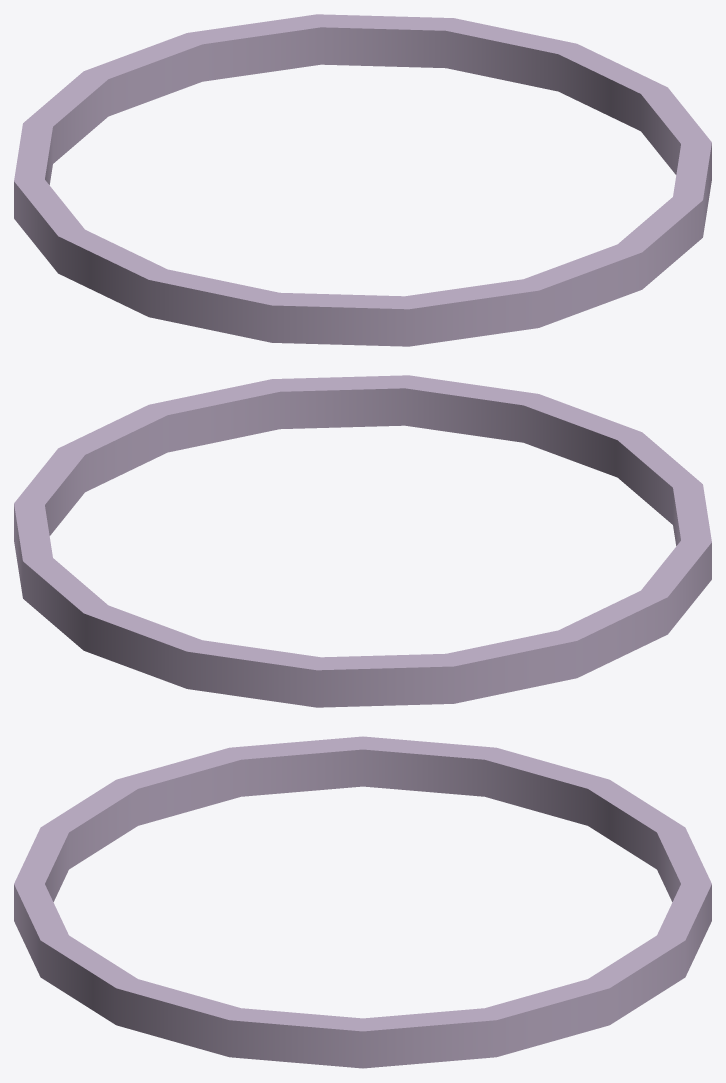
File: 9_uitje.fbx
The picture shows the model from 3 angles, top to bottom: view 1: azimuth 30°, elevation 25°; view 2: azimuth 150°, elevation 25°; view 3: azimuth 270°, elevation 25°; orthographic projection.
Visible parts, largest first — view 1: ui; view 2: ui; view 3: ui.
Boxes of the visible parts, x1=… form: ui: x1=14, y1=14, x2=711, y2=346; ui: x1=14, y1=375, x2=711, y2=707; ui: x1=14, y1=736, x2=711, y2=1068.
Size of the model in its own units: 200 by 11.72 by 200.
